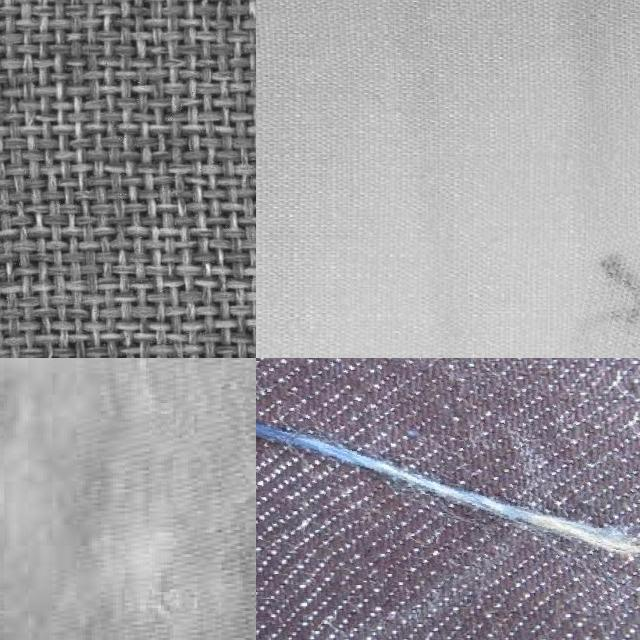Thread_other: (572, 233, 640, 358)
stains: (256, 358, 640, 604)
